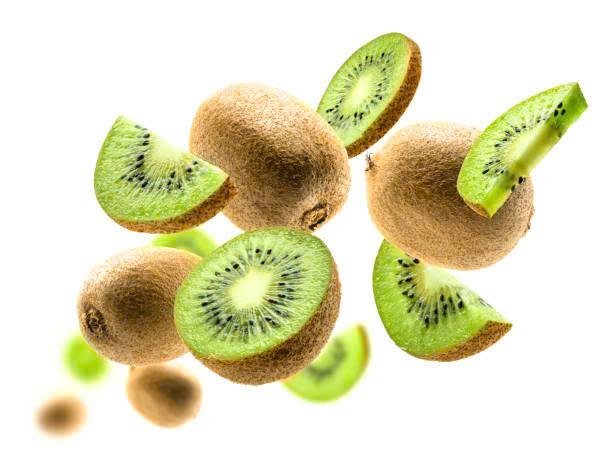kiwi: (166, 222, 348, 380), (372, 140, 536, 271), (191, 81, 349, 216), (85, 109, 236, 230), (371, 241, 507, 372), (458, 84, 580, 217), (326, 21, 414, 140)
